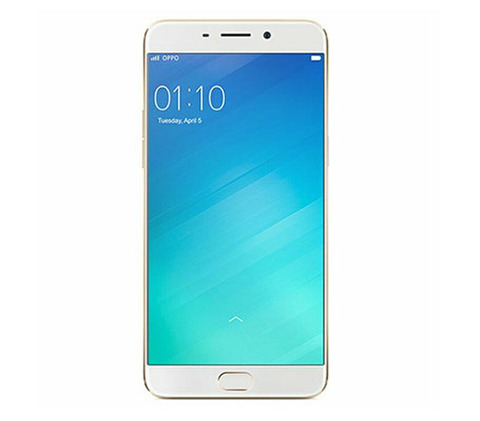Handphone: (137, 15, 334, 404)
